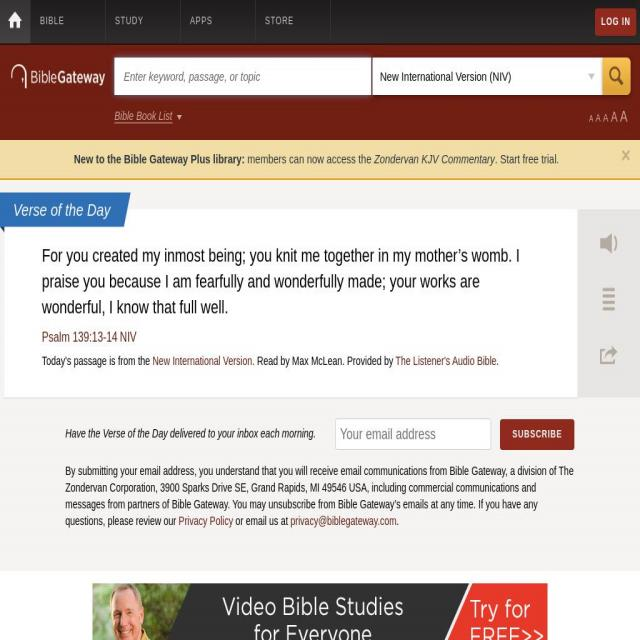field: (329, 418, 586, 450)
login-option: (590, 3, 640, 42)
navigation-links: (5, 5, 317, 47)
search: (110, 52, 636, 112)
